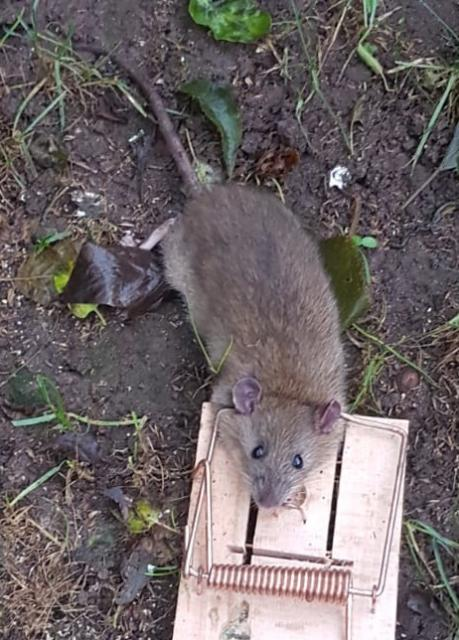rat: (122, 92, 359, 520)
